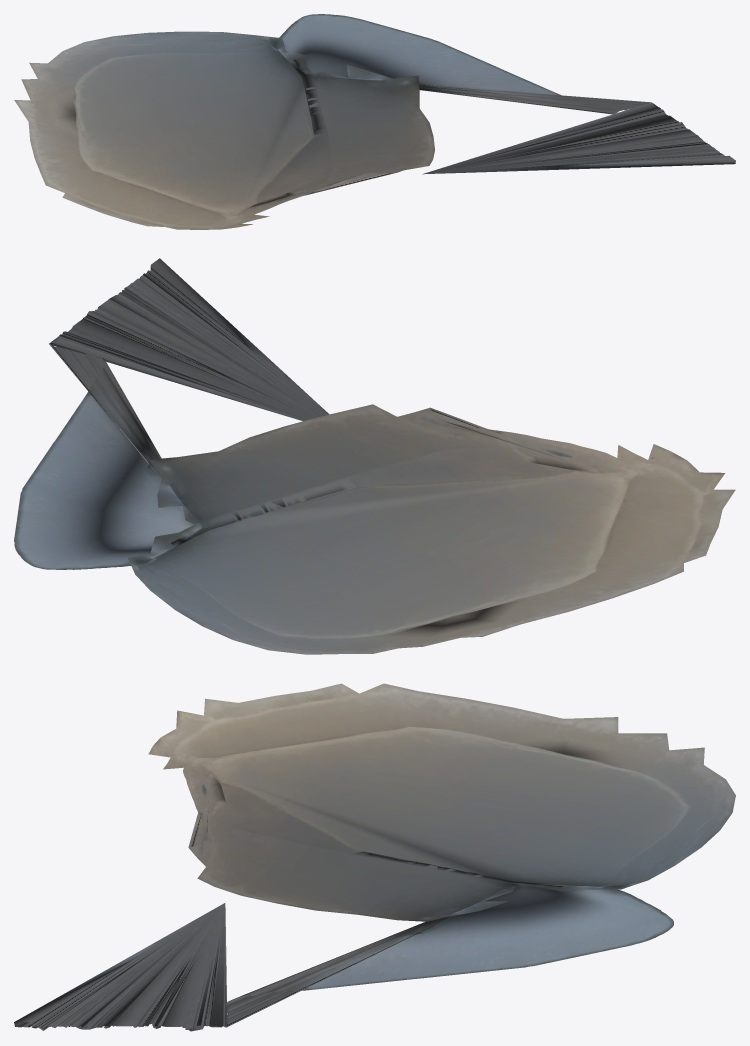
The model's file is flat_rock_everyday_realistic_style_4f55b9db_v4.glb.
3 views of the same model, one above another, from view 1: azimuth 30°, elevation 25°; view 2: azimuth 150°, elevation 25°; view 3: azimuth 270°, elevation 25° (orthographic). The views are drawn at different scales.
Parts seen in each view (by area): view 1: mesh_input; view 2: mesh_input; view 3: mesh_input.
Boxes of the visible parts, bbox=[...] form: mesh_input: bbox=[14, 14, 735, 229]; mesh_input: bbox=[14, 258, 735, 654]; mesh_input: bbox=[14, 683, 735, 1031].
Bounding box in the file's own units: 1.4 × 0.0562 × 1.27.
Materials: 1 (1 with a texture image).
